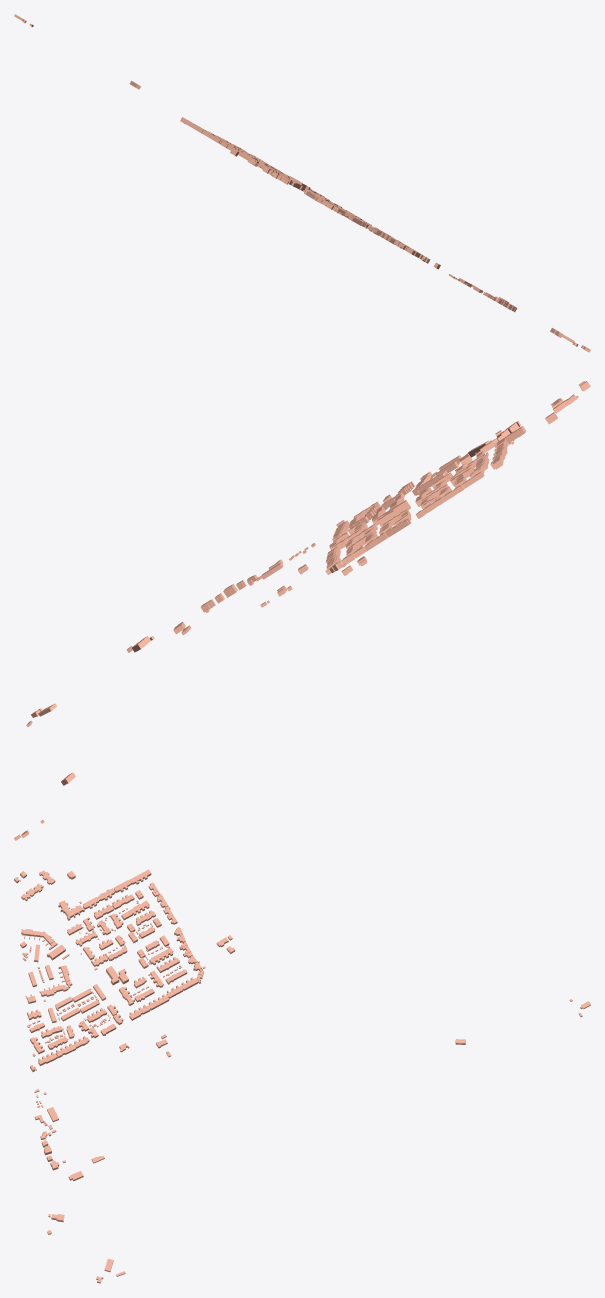
3 renders of one model, top to bottom at view 1: azimuth 30°, elevation 25°; view 2: azimuth 150°, elevation 25°; view 3: azimuth 270°, elevation 25°, orthographic. The views are drawn at different scales.
Size of the model in its own units: 797 by 616 by 1236.
